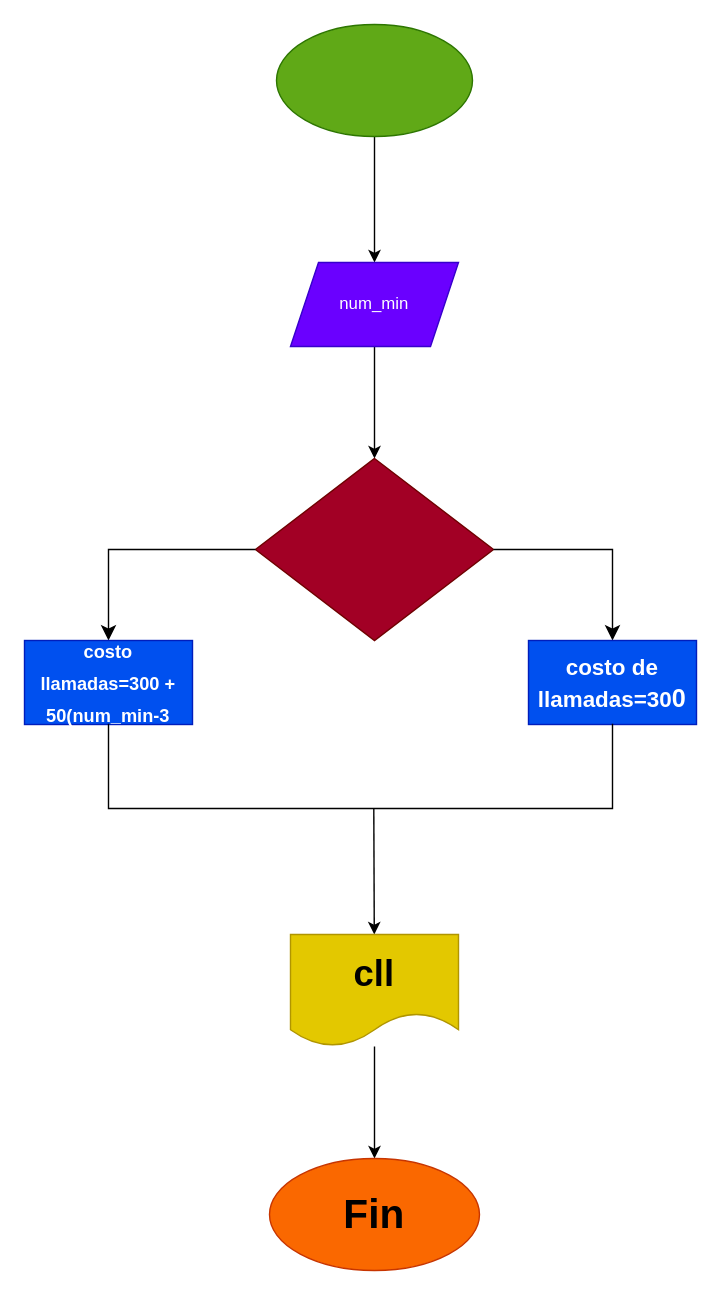
Image size: 721x1295. Some labels were removed from this diagram. The centre of each missing label's shape, as x and y in pixels:
"Inicio" goes at [373,79].
"num_min<=3" goes at [373,548].
